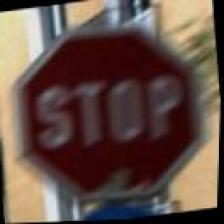Stop: (4, 5, 216, 214)
